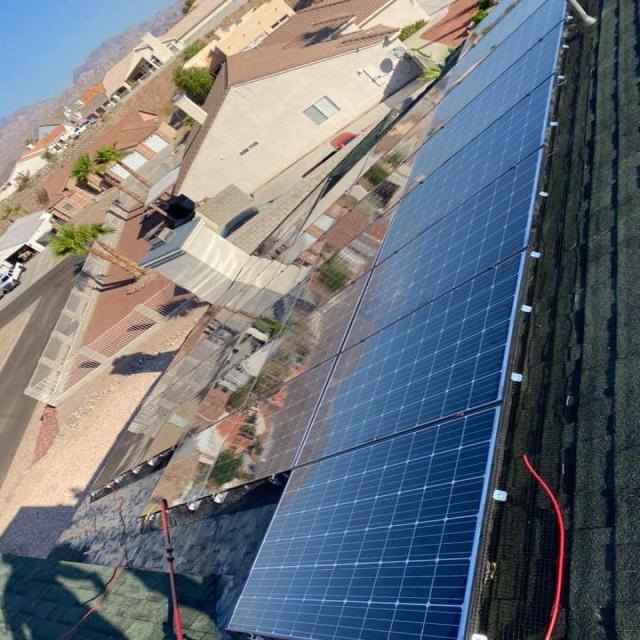clean-solar-panel: (230, 0, 563, 640)
